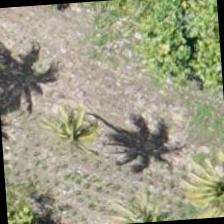Kelapa_Sawit: (21, 88, 116, 184), (173, 149, 223, 221)
